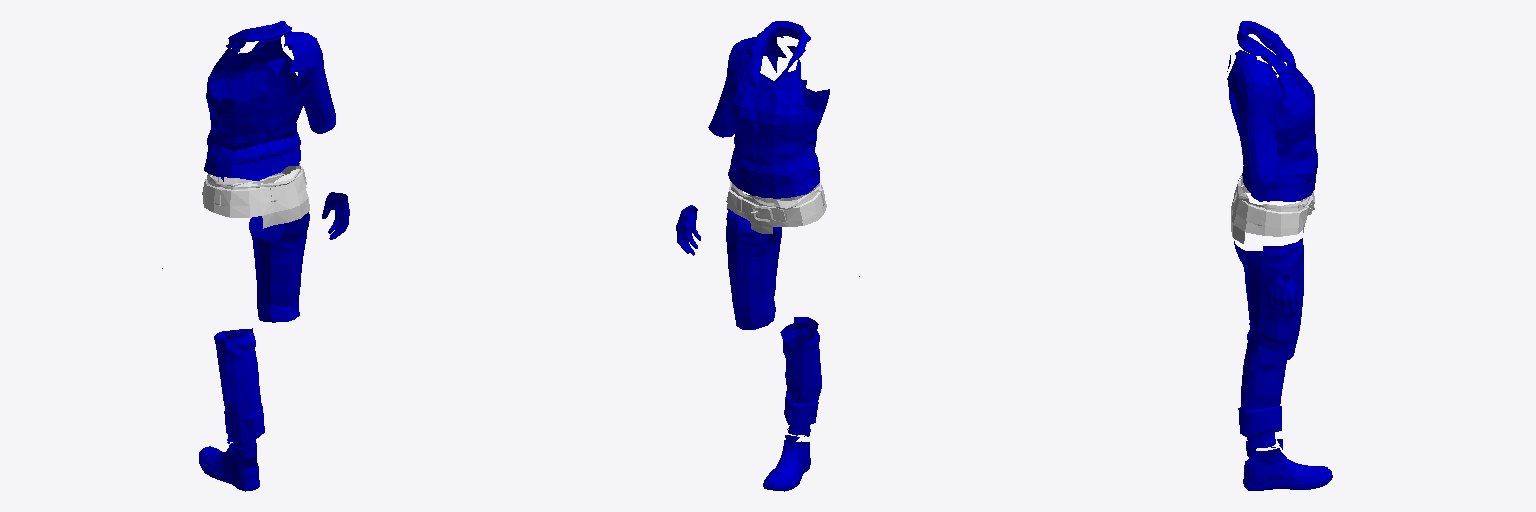
The robot description file, URDF, robot "human":
<?xml version="1.0"?>
<robot xmlns:sensor="http://playerstage.sourceforge.net/gazebo/xmlschema/#sensor"
       xmlns:controller="http://playerstage.sourceforge.net/gazebo/xmlschema/#controller"
       xmlns:interface="http://playerstage.sourceforge.net/gazebo/xmlschema/#interface"
       xmlns:xacro="http://playerstage.sourceforge.net/gazebo/xmlschema/#interface"
       name="human" >

  <material name="Blue">
    <color rgba="0.0 0.0 0.8 1.0"/>
  </material>
  <material name="Green">
    <color rgba="0.0 0.8 0.0 1.0"/>
  </material>
  <material name="Grey">
    <color rgba="0.7 0.7 0.7 1.0"/>
  </material>
  <material name="Grey2">
    <color rgba="0.9 0.9 0.9 1.0"/>
  </material>
  <material name="Red">
    <color rgba="0.8 0.0 0.0 1.0"/>
  </material>
  <material name="White">
    <color rgba="1.0 1.0 1.0 1.0"/>
  </material>
  <material name="Black">
    <color rgba="0.1 0.1 0.1 1.0"/>
  </material>
  <material name="LightGrey">
    <color rgba="0.6 0.6 0.6 1.0"/>
  </material>

  <link name="root_link"/>
  <link name="base_prismatic_dummy1"/>
  <link name="base_prismatic_dummy2"/>
  <joint name="base_prismatic_joint_x" type="prismatic">
    <axis xyz="1 0 0"/>
    <limit effort="10000" lower="-5.0" upper="5.0" velocity="0.6"/>
    <safety_controller k_position="100" k_velocity="2000000" soft_lower_limit="-4.9" soft_upper_limit="4.9"/>
    <calibration falling="0.00536"/>
    <dynamics damping="20000.0"/>
    <origin rpy="0 0 0" xyz="0 0 1.12"/>
    <parent link="root_link"/>
    <child link="base_prismatic_dummy1"/>
  </joint>
  <joint name="base_prismatic_joint_y" type="prismatic">
    <axis xyz="0 1 0"/>
    <limit effort="10000" lower="-5.0" upper="5.0" velocity="0.6"/>
    <safety_controller k_position="100" k_velocity="2000000" soft_lower_limit="-4.9" soft_upper_limit="4.9"/>
    <calibration falling="0.00536"/>
    <dynamics damping="20000.0"/>
    <origin rpy="0 0 0" xyz="0 0 0"/>
    <parent link="base_prismatic_dummy1"/>
    <child link="base_prismatic_dummy2"/>
  </joint>
  <joint name="base_rotate_joint" type="continuous">
    <axis xyz="0 0 1"/>
    <limit effort="30" velocity="3.6"/>
    <safety_controller k_velocity="1"/>
    <calibration rising="0.0"/>
    <dynamics damping="0.1"/>
    <origin rpy="0 0 0" xyz="0 0 0"/>
    <parent link="base_prismatic_dummy2"/>
    <child link="pelvis_link"/>
  </joint>

  <link name="pelvis_link">
    <visual>
      <origin rpy="0 0 0" xyz="0 0 0"/>
      <geometry>
        <mesh filename="package://human_description/meshes/zoey/pelvis.obj"/>
      </geometry>
      <material name="Grey2"/>
    </visual>
    <collision>
      <origin rpy="0 0 0" xyz="0 0 0"/>
      <geometry>
        <mesh filename="package://human_description/meshes/zoey/pelvis.obj"/>
      </geometry>
    </collision>
  </link>

  <joint name="torso_z_joint" type="revolute">
    <axis xyz="0 0 1"/>
    <limit effort="15" lower="-0.7" upper="0.7" velocity="5"/>
    <origin rpy="0 0 0" xyz="0 0.005864 0.074074"/>
    <parent link="pelvis_link"/>
    <child link="torso_z_link"/>
  </joint>
  <joint name="torso_y_joint" type="revolute">
    <axis xyz="0 1 0"/>
    <limit effort="15" lower="-0.3" upper="0.3" velocity="5"/>
    <origin rpy="0 0 0" xyz="0 0 0"/>
    <parent link="torso_z_link"/>
    <child link="torso_y_link"/>
  </joint>
  <joint name="torso_x_joint" type="revolute">
    <axis xyz="1 0 0"/>
    <limit effort="15" lower="-1.0" upper="0" velocity="5"/>
    <origin rpy="0 0 0" xyz="0 0 0"/>
    <parent link="torso_y_link"/>
    <child link="torso_x_link"/>
  </joint>  
  <joint name="torso_up_joint" type="revolute">
    <axis xyz="1 0 0"/>    
    <limit effort="15" lower="-0.001" upper="0.001" velocity="5"/>
    <origin rpy="0 0 0" xyz="0 -0.011188 0.131306"/>
    <parent link="torso_x_link"/>
    <child link="torso_up_link"/>
  </joint>

  <link name="torso_z_link"/>
  <link name="torso_y_link"/>
  <link name="torso_x_link">
    <visual>
      <origin rpy="0 0 0" xyz="0 0 0"/>
      <geometry>
        <mesh filename="package://human_description/meshes/zoey/torso.obj"/>
      </geometry>
      <material name="Blue"/>
    </visual>
    <collision>
      <origin rpy="0 0 0" xyz="0 0 0"/>
      <geometry>
        <mesh filename="package://human_description/meshes/zoey/torso.obj"/>
      </geometry>
    </collision>
  </link>
  <link name="torso_up_link"/>

  <joint name="head_z_joint" type="revolute">
    <axis xyz="0 0 1"/>
    <limit effort="15" lower="-1.2" upper="1.2" velocity="5"/>
    <origin rpy="0 0 0" xyz="0 -0.031 0.216978"/>
    <parent link="torso_up_link"/>
    <child link="head_z_link"/>
  </joint>
  <joint name="head_y_joint" type="revolute">
    <axis xyz="0 1 0"/>
    <limit effort="15" lower="-0.8" upper="0.8" velocity="5"/>
    <origin rpy="0 0 0" xyz="0 0 0"/>
    <parent link="head_z_link"/>
    <child link="head_y_link"/>
  </joint>
  <joint name="head_x_joint" type="revolute">
    <axis xyz="1 0 0"/>
    <limit effort="15" lower="-1.57" upper="0.3" velocity="5"/>
    <origin rpy="0 0 0" xyz="0 0 0"/>
    <parent link="head_y_link"/>
    <child link="head_x_link"/>
  </joint>

  <link name="head_z_link"/>
  <link name="head_y_link"/>
  <link name="head_x_link">
    <visual>
      <origin rpy="0 0 0" xyz="0 0 0"/>
      <geometry>
        <mesh filename="package://human_description/meshes/zoey/head.obj"/>
      </geometry>
      <material name="Blue"/>
    </visual>
    <collision>
      <origin rpy="0 0 0" xyz="0 0 0"/>
      <geometry>
        <mesh filename="package://human_description/meshes/zoey/head.obj"/>
      </geometry>
    </collision>
  </link>


  <joint name="upper_left_leg_z_joint" type="revolute">
    <axis xyz="0 0 1"/>
    <limit effort="15" lower="-1.57" upper="1" velocity="5"/>
    <origin rpy="0 0 0" xyz="-0.069112 0 0"/>
    <parent link="pelvis_link"/>
    <child link="upper_left_leg_z_link"/>
  </joint>
  <joint name="upper_left_leg_y_joint" type="revolute">
    <axis xyz="0 1 0"/>
    <limit effort="15" lower="-1.57" upper="0.7" velocity="5"/>
    <origin rpy="0 0 0" xyz="0 0 0"/>
    <parent link="upper_left_leg_z_link"/>
    <child link="upper_left_leg_y_link"/>
  </joint>
  <joint name="upper_left_leg_x_joint" type="revolute">
    <axis xyz="1 0 0"/>
    <limit effort="15" lower="-1.2" upper="1.57" velocity="5"/>
    <origin rpy="0 0 0" xyz="0 0 0"/>
    <parent link="upper_left_leg_y_link"/>
    <child link="upper_left_leg_x_link"/>
  </joint>

  <link name="upper_left_leg_z_link"/>
  <link name="upper_left_leg_y_link"/>
  <link name="upper_left_leg_x_link">
    <visual>
      <origin rpy="0 0 0" xyz="0 0 0"/>
      <geometry>
        <mesh filename="package://human_description/meshes/zoey/l_lupperleg.obj"/>
      </geometry>
      <material name="Blue"/>
    </visual>
    <collision>
      <origin rpy="0 0 0" xyz="0 0 0"/>
      <geometry>
        <mesh filename="package://human_description/meshes/zoey/l_lupperleg.obj"/>
      </geometry>
    </collision>
  </link>

  <joint name="lower_left_leg_joint" type="revolute">
    <axis xyz="1 0 0"/>
    <limit effort="15" lower="-2.4" upper="0" velocity="5"/>
    <origin rpy="0 0 0" xyz="0.011634 -0.010252 -0.331082"/>
    <parent link="upper_left_leg_x_link"/>
    <child link="lower_left_leg_link"/>
  </joint>

  <link name="lower_left_leg_link">
    <visual>
      <origin rpy="0 0 0" xyz="0 0 0"/>
      <geometry>
        <mesh filename="package://human_description/meshes/zoey/l_lowerleg.obj"/>
      </geometry>
      <material name="Blue"/>
    </visual>
    <collision>
      <origin rpy="0 0 0" xyz="0 0 0"/>
      <geometry>
        <mesh filename="package://human_description/meshes/zoey/l_lowerleg.obj"/>
      </geometry>
    </collision>
  </link>

  <joint name="left_foot_z_joint" type="revolute">
    <axis xyz="0 0 1"/>
    <limit effort="15" lower="-0.01" upper="0" velocity="5"/>
    <origin rpy="0 0 0" xyz="0.011414 -0.01328 -0.324846"/>
    <parent link="lower_left_leg_link"/>
    <child link="left_foot_z_link"/>
  </joint>
  <joint name="left_foot_y_joint" type="revolute">
    <axis xyz="0 1 0"/>
    <limit effort="15" lower="-0.5" upper="0.5" velocity="5"/>
    <origin rpy="0 0 0" xyz="0 0 0"/>
    <parent link="left_foot_z_link"/>
    <child link="left_foot_y_link"/>
  </joint>
  <joint name="left_foot_x_joint" type="revolute">
    <axis xyz="1 0 0"/>
    <limit effort="15" lower="-0.8" upper="0.6" velocity="5"/>
    <origin rpy="0 0 0" xyz="0 0 0"/>
    <parent link="left_foot_y_link"/>
    <child link="left_foot_x_link"/>
  </joint>

  <link name="left_foot_z_link"/>
  <link name="left_foot_y_link"/>
  <link name="left_foot_x_link">
    <visual>
      <origin rpy="0 0 0" xyz="0 0 0"/>
      <geometry>
        <mesh filename="package://human_description/meshes/zoey/l_foot.obj"/>
      </geometry>
      <material name="Blue"/>
    </visual>
    <collision>
      <origin rpy="0 0 0" xyz="0 0 0"/>
      <geometry>
        <mesh filename="package://human_description/meshes/zoey/l_foot.obj"/>
      </geometry>
    </collision>
  </link>

  <joint name="upper_right_leg_z_joint" type="revolute">
    <axis xyz="0 0 1"/>
    <limit effort="15" lower="-1" upper="1.57" velocity="5"/>
    <origin rpy="0 0 0" xyz="0.069112 0 0"/>
    <parent link="pelvis_link"/>
    <child link="upper_right_leg_z_link"/>
  </joint>
  <joint name="upper_right_leg_y_joint" type="revolute">
    <axis xyz="0 1 0"/>
    <limit effort="15" lower="-0.7" upper="1.57" velocity="5"/>
    <origin rpy="0 0 0" xyz="0 0 0"/>
    <parent link="upper_right_leg_z_link"/>
    <child link="upper_right_leg_y_link"/>
  </joint>
  <joint name="upper_right_leg_x_joint" type="revolute">
    <axis xyz="1 0 0"/>
    <limit effort="15" lower="-1.2" upper="1.57" velocity="5"/>
    <origin rpy="0 0 0" xyz="0 0 0"/>
    <parent link="upper_right_leg_y_link"/>
    <child link="upper_right_leg_x_link"/>
  </joint>

  <link name="upper_right_leg_z_link"/>
  <link name="upper_right_leg_y_link"/>
  <link name="upper_right_leg_x_link">
    <visual>
      <origin rpy="0 0 0" xyz="0 0 0"/>
      <geometry>
        <mesh filename="package://human_description/meshes/zoey/r_upperleg.obj"/>
      </geometry>
      <material name="Blue"/>
    </visual>
    <collision>
      <origin rpy="0 0 0" xyz="0 0 0"/>
      <geometry>
        <mesh filename="package://human_description/meshes/zoey/r_upperleg.obj"/>
      </geometry>
    </collision>
  </link>

  <joint name="lower_right_leg_joint" type="revolute">
    <axis xyz="1 0 0"/>
    <limit effort="15" lower="-2.4" upper="0" velocity="5"/>
    <origin rpy="0 0 0" xyz="-0.011634 -0.010452 -0.331082"/>
    <parent link="upper_right_leg_x_link"/>
    <child link="lower_right_leg_link"/>
  </joint>

  <link name="lower_right_leg_link">
    <visual>
      <origin rpy="0 0 0" xyz="0 0 0"/>
      <geometry>
        <mesh filename="package://human_description/meshes/zoey/r_lowerleg.obj"/>
      </geometry>
      <material name="Blue"/>
    </visual>
    <collision>
      <origin rpy="0 0 0" xyz="0 0 0"/>
      <geometry>
        <mesh filename="package://human_description/meshes/zoey/r_lowerleg.obj"/>
      </geometry>
    </collision>
  </link>

  <joint name="right_foot_z_joint" type="revolute">
    <axis xyz="0 0 1"/>
    <limit effort="15" lower="0" upper="0.001" velocity="5"/>
    <origin rpy="0 0 0" xyz="-0.011414 -0.01328 -0.324846"/>
    <parent link="lower_right_leg_link"/>
    <child link="right_foot_z_link"/>
  </joint>
  <joint name="right_foot_y_joint" type="revolute">
    <axis xyz="0 1 0"/>
    <limit effort="15" lower="-0.5" upper="0.5" velocity="5"/>
    <origin rpy="0 0 0" xyz="0 0 0"/>
    <parent link="right_foot_z_link"/>
    <child link="right_foot_y_link"/>
  </joint>
  <joint name="right_foot_x_joint" type="revolute">
    <axis xyz="1 0 0"/>
    <limit effort="15" lower="-0.8" upper="0.6" velocity="5"/>
    <origin rpy="0 0 0" xyz="0 0 0"/>
    <parent link="right_foot_y_link"/>
    <child link="right_foot_x_link"/>
  </joint>

  <link name="right_foot_z_link"/>
  <link name="right_foot_y_link"/>
  <link name="right_foot_x_link">
    <visual>
      <origin rpy="0 0 0" xyz="0 0 0"/>
      <geometry>
        <mesh filename="package://human_description/meshes/zoey/r_foot.obj"/>
      </geometry>
      <material name="Blue"/>
    </visual>
    <collision>
      <origin rpy="0 0 0" xyz="0 0 0"/>
      <geometry>
        <mesh filename="package://human_description/meshes/zoey/r_foot.obj"/>
      </geometry>
    </collision>
  </link>

  <joint name="upper_left_specula_joint" type="revolute">
    <axis xyz="0 0 1"/>
    <limit effort="15" lower="-0.5" upper="0.5" velocity="5"/>
    <origin rpy="0 0 0" xyz="-0.03 -0.00434 0.19102"/>
    <parent link="torso_up_link"/>
    <child link="upper_left_arm_specula_link"/>
  </joint>
  
  <link name="upper_left_arm_specula_link"/>
  
  <joint name="upper_left_arm_z_joint" type="revolute">
    <axis xyz="0 0 1"/>
    <limit effort="15" lower="-0.5" upper="0.5" velocity="5"/>
    <origin rpy="0 0 0" xyz="-0.074958 -0.026976 -0.033798"/>
    <parent link="upper_left_arm_specula_link"/>
    <child link="upper_left_arm_z_link"/>
  </joint>
  <joint name="upper_left_arm_y_joint" type="revolute">
    <axis xyz="0 1 0"/>
    <limit effort="15" lower="-3.14" upper="2.0" velocity="5"/>
    <origin rpy="0 0 0" xyz="0 0 0"/>
    <parent link="upper_left_arm_z_link"/>
    <child link="upper_left_arm_y_link"/>
  </joint>
  <joint name="upper_left_arm_x_joint" type="revolute">
    <axis xyz="1 0 0"/>
    <limit effort="15" lower="-1.0" upper="3.14" velocity="5"/>
    <origin rpy="0 0 0" xyz="0 0 0"/>
    <parent link="upper_left_arm_y_link"/>
    <child link="upper_left_arm_x_link"/>
  </joint>

  <link name="upper_left_arm_z_link"/>
  <link name="upper_left_arm_y_link"/>
  <link name="upper_left_arm_x_link">
    <visual>
      <origin rpy="0 0 0" xyz="0 0 0"/>
      <geometry>
        <mesh filename="package://human_description/meshes/zoey/l_upperarm.obj"/>
      </geometry>
      <material name="Blue"/>
    </visual>
    <collision>
      <origin rpy="0 0 0" xyz="0 0 0"/>
      <geometry>
        <mesh filename="package://human_description/meshes/zoey/l_upperarm.obj"/>
      </geometry>
    </collision>
  </link>

  <joint name="lower_left_arm_joint" type="revolute">
    <axis xyz="1 0 0"/>
    <limit effort="15" lower="0" upper="3.14" velocity="5"/>
    <origin rpy="0 0 0" xyz="-0.069024 0.0101 -0.210864"/>
    <parent link="upper_left_arm_x_link"/>
    <child link="lower_left_arm_link"/>
  </joint>

  <link name="lower_left_arm_link">
    <visual>
      <origin rpy="0 0 0" xyz="0 0 0"/>
      <geometry>
        <mesh filename="package://human_description/meshes/zoey/l_forearm.obj"/>
      </geometry>
      <material name="Blue"/>
    </visual>
    <collision>
      <origin rpy="0 0 0" xyz="0 0 0"/>
      <geometry>
        <mesh filename="package://human_description/meshes/zoey/l_forearm.obj"/>
      </geometry>
    </collision>
  </link>

  <joint name="left_hand_z_joint" type="revolute">
    <axis xyz="0 0 1"/>
    <limit effort="15" lower="-1.0" upper="1.0" velocity="5"/>
    <origin rpy="0 0 0" xyz="-0.060346 0.035716 -0.184354"/>
    <parent link="lower_left_arm_link"/>
    <child link="left_hand_z_link"/>
  </joint>
  <joint name="left_hand_y_joint" type="revolute">
    <axis xyz="0 1 0"/>
    <limit effort="15" lower="-1.3" upper="1.5" velocity="5"/>
    <origin rpy="0 0 0" xyz="0 0 0"/>
    <parent link="left_hand_z_link"/>
    <child link="left_hand_y_link"/>
  </joint>
  <joint name="left_hand_x_joint" type="revolute">
    <axis xyz="1 0 0"/>
    <limit effort="15" lower="-0.5" upper="1.4" velocity="5"/>
    <origin rpy="0 0 0" xyz="0 0 0"/>
    <parent link="left_hand_y_link"/>
    <child link="left_hand_x_link"/>
  </joint>

  <link name="left_hand_z_link"/>
  <link name="left_hand_y_link"/>
  <link name="left_hand_x_link">
    <visual>
      <origin rpy="0 0 0" xyz="0 0 0"/>
      <geometry>
        <mesh filename="package://human_description/meshes/zoey/l_hand.obj"/>
      </geometry>
      <material name="Blue"/>
    </visual>
    <collision>
      <origin rpy="0 0 0" xyz="0 0 0"/>
      <geometry>
        <mesh filename="package://human_description/meshes/zoey/l_hand.obj"/>
      </geometry>
    </collision>
  </link>

  <joint name="left_hand_endeffector_joint" type="revolute">
    <axis xyz="0 0 1"/>
    <limit effort="15" lower="-0.001" upper="0.001" velocity="5"/>
    <origin rpy="0 0 0" xyz="-0.006974 0.00016 -0.089562"/>
    <parent link="left_hand_x_link"/>
    <child link="left_hand_endeffector_link"/>
  </joint>

  <link name="left_hand_endeffector_link">
    <visual>
      <origin rpy="0 0 0" xyz="0 0 0"/>
      <geometry>
        <box size="0.001 0.001 0.001"/>
      </geometry>
      <material name="Blue"/>
    </visual>
    <collision>
      <origin rpy="0 0 0" xyz="0 0 0"/>
      <geometry>
        <box size="0.001 0.001 0.001"/>
      </geometry>
    </collision>
  </link>

  
  <joint name="upper_right_specula_joint" type="revolute">
    <axis xyz="0 0 1"/>
    <limit effort="15" lower="-0.5" upper="0.5" velocity="5"/>
    <origin rpy="0 0 0" xyz="0.03 -0.00434 0.19102"/>
    <parent link="torso_up_link"/>
    <child link="upper_right_arm_specula_link"/>
  </joint>
    
  <link name="upper_right_arm_specula_link"/>
  
  <joint name="upper_right_arm_z_joint" type="revolute">
    <axis xyz="0 0 1"/>
    <limit effort="15" lower="-0.5" upper="0.5" velocity="5"/>
    <origin rpy="0 0 0" xyz="0.074956 -0.026976 -0.0338"/>
    <parent link="upper_right_arm_specula_link"/>
    <child link="upper_right_arm_z_link"/>
  </joint>
  <joint name="upper_right_arm_y_joint" type="revolute">
    <axis xyz="0 1 0"/>
    <limit effort="15" lower="-2.0" upper="3.14" velocity="5"/>
    <origin rpy="0 0 0" xyz="0 0 0"/>
    <parent link="upper_right_arm_z_link"/>
    <child link="upper_right_arm_y_link"/>
  </joint>
  <joint name="upper_right_arm_x_joint" type="revolute">
    <axis xyz="1 0 0"/>
    <limit effort="15" lower="-1.0" upper="3.14" velocity="5"/>
    <origin rpy="0 0 0" xyz="0 0 0"/>
    <parent link="upper_right_arm_y_link"/>
    <child link="upper_right_arm_x_link"/>
  </joint>

  <link name="upper_right_arm_z_link"/>
  <link name="upper_right_arm_y_link"/>
  <link name="upper_right_arm_x_link">
    <visual>
      <origin rpy="0 0 0" xyz="0 0 0"/>
      <geometry>
        <mesh filename="package://human_description/meshes/zoey/r_upperarm.obj"/>
      </geometry>
      <material name="Blue"/>
    </visual>
    <collision>
      <origin rpy="0 0 0" xyz="0 0 0"/>
      <geometry>
        <mesh filename="package://human_description/meshes/zoey/r_upperarm.obj"/>
      </geometry>
    </collision>
  </link>

  <joint name="lower_right_arm_joint" type="revolute">
    <axis xyz="1 0 0"/>
    <limit effort="15" lower="0" upper="3.14" velocity="5"/>
    <origin rpy="0 0 0" xyz="0.069024 0.010102 -0.210864"/>
    <parent link="upper_right_arm_x_link"/>
    <child link="lower_right_arm_link"/>
  </joint>

  <link name="lower_right_arm_link">
    <visual>
      <origin rpy="0 0 0" xyz="0 0 0"/>
      <geometry>
        <mesh filename="package://human_description/meshes/zoey/r_forearm.obj"/>
      </geometry>
      <material name="Blue"/>
    </visual>
    <collision>
      <origin rpy="0 0 0" xyz="0 0 0"/>
      <geometry>
        <mesh filename="package://human_description/meshes/zoey/r_forearm.obj"/>
      </geometry>
    </collision>
  </link>

  <joint name="right_hand_z_joint" type="revolute">
    <axis xyz="0 0 1"/>
    <limit effort="15" lower="-1.0" upper="1.0" velocity="5"/>
    <origin rpy="0 0 0" xyz="0.060348 0.035716 -0.184354"/>
    <parent link="lower_right_arm_link"/>
    <child link="right_hand_z_link"/>
  </joint>
  <joint name="right_hand_y_joint" type="revolute">
    <axis xyz="0 1 0"/>
    <limit effort="15" lower="-1.5" upper="1.3" velocity="5"/>
    <origin rpy="0 0 0" xyz="0 0 0"/>
    <parent link="right_hand_z_link"/>
    <child link="right_hand_y_link"/>
  </joint>
  <joint name="right_hand_x_joint" type="revolute">
    <axis xyz="1 0 0"/>
    <limit effort="15" lower="-0.5" upper="1.4" velocity="5"/>
    <origin rpy="0 0 0" xyz="0 0 0"/>
    <parent link="right_hand_y_link"/>
    <child link="right_hand_x_link"/>
  </joint>

  <link name="right_hand_z_link"/>
  <link name="right_hand_y_link"/>
  <link name="right_hand_x_link">
    <visual>
      <origin rpy="0 0 0" xyz="0 0 0"/>
      <geometry>
        <mesh filename="package://human_description/meshes/zoey/r_hand.obj"/>
      </geometry>
      <material name="Blue"/>
    </visual>
    <collision>
      <origin rpy="0 0 0" xyz="0 0 0"/>
      <geometry>
        <mesh filename="package://human_description/meshes/zoey/r_hand.obj"/>
      </geometry>
    </collision>
  </link>

  <joint name="right_hand_endeffector_joint" type="revolute">
    <axis xyz="0 0 1"/>
    <limit effort="15" lower="-0.001" upper="0.001" velocity="5"/>
    <origin rpy="0 0 0" xyz="0.011072 0.017 -0.099982"/>
    <parent link="right_hand_x_link"/>
    <child link="right_hand_endeffector_link"/>
  </joint>

  <link name="right_hand_endeffector_link">
    <visual>
      <origin rpy="0 0 0" xyz="0 0 0"/>
      <geometry>
        <box size="0.001 0.001 0.001"/>
      </geometry>
      <material name="Blue"/>
    </visual>
    <collision>
      <origin rpy="0 0 0" xyz="0 0 0"/>
      <geometry>
        <box size="0.001 0.001 0.001"/>
      </geometry>
    </collision>
  </link>

</robot>

--- What the picture shows (computed from the rendered views, not written in the file) ---
The picture shows the robot from 3 angles, left to right: view 1: azimuth 30°, elevation 25°; view 2: azimuth 150°, elevation 25°; view 3: azimuth 270°, elevation 25°; orthographic projection.
Model human with 43 links and 42 joints (39 revolute, 1 continuous, 2 prismatic), rooted at root_link, posed every joint at zero.
Links seen in each view (by area): view 1: torso_x_link, upper_right_leg_x_link, lower_left_leg_link, pelvis_link, upper_right_arm_x_link, left_foot_x_link, right_hand_x_link; view 2: torso_x_link, upper_right_leg_x_link, lower_left_leg_link, pelvis_link, upper_right_arm_x_link, left_foot_x_link, right_hand_x_link; view 3: torso_x_link, upper_right_leg_x_link, upper_right_arm_x_link, lower_left_leg_link, pelvis_link, left_foot_x_link, right_hand_x_link.
Link boxes in pixels (<box>): torso_x_link: <box>204,21,311,181</box>; upper_right_leg_x_link: <box>249,212,309,322</box>; lower_left_leg_link: <box>214,328,264,459</box>; pelvis_link: <box>202,164,309,228</box>; upper_right_arm_x_link: <box>284,31,335,133</box>; left_foot_x_link: <box>199,443,259,491</box>; right_hand_x_link: <box>322,192,349,239</box>; torso_x_link: <box>728,21,829,198</box>; upper_right_leg_x_link: <box>726,208,781,329</box>; lower_left_leg_link: <box>780,317,821,443</box>; pelvis_link: <box>726,182,826,233</box>; upper_right_arm_x_link: <box>708,36,786,137</box>; left_foot_x_link: <box>763,440,810,491</box>; right_hand_x_link: <box>676,205,700,255</box>; torso_x_link: <box>1227,21,1317,201</box>; upper_right_leg_x_link: <box>1234,238,1303,359</box>; upper_right_arm_x_link: <box>1227,50,1282,181</box>; lower_left_leg_link: <box>1238,323,1286,458</box>; pelvis_link: <box>1231,175,1314,243</box>; left_foot_x_link: <box>1243,448,1332,490</box>; right_hand_x_link: <box>1267,275,1301,320</box>.
Bounding box of the posed robot: 0.502 × 0.2415 × 1.18 m (x, y, z).
Meshes: 15 distinct files referenced, 7 mesh visuals loaded (7 OBJ); not drawn: 8 (reference not matched to a file when rendering).
